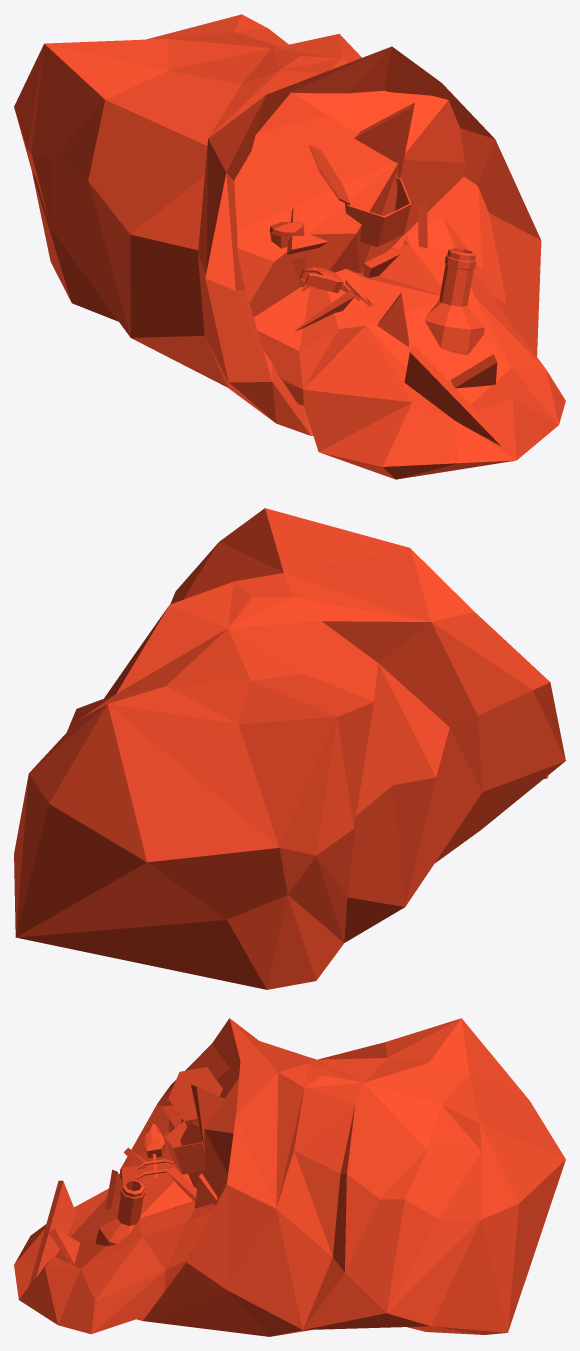
File: SM_Trash_Fallen_City.fbx
3 views of the same model, one above another, from view 1: azimuth 30°, elevation 25°; view 2: azimuth 150°, elevation 25°; view 3: azimuth 270°, elevation 25° (orthographic). The views are drawn at different scales.
Visible parts, largest first — view 1: SM_Trash_Fallen_City; view 2: SM_Trash_Fallen_City; view 3: SM_Trash_Fallen_City.
Boxes of the visible parts, x1,y1,x2,y2 form: SM_Trash_Fallen_City: (14,14,565,479); SM_Trash_Fallen_City: (14,508,565,989); SM_Trash_Fallen_City: (14,1018,565,1336).
Size of the model in its own units: 0.4437 by 0.366 by 0.7414.
